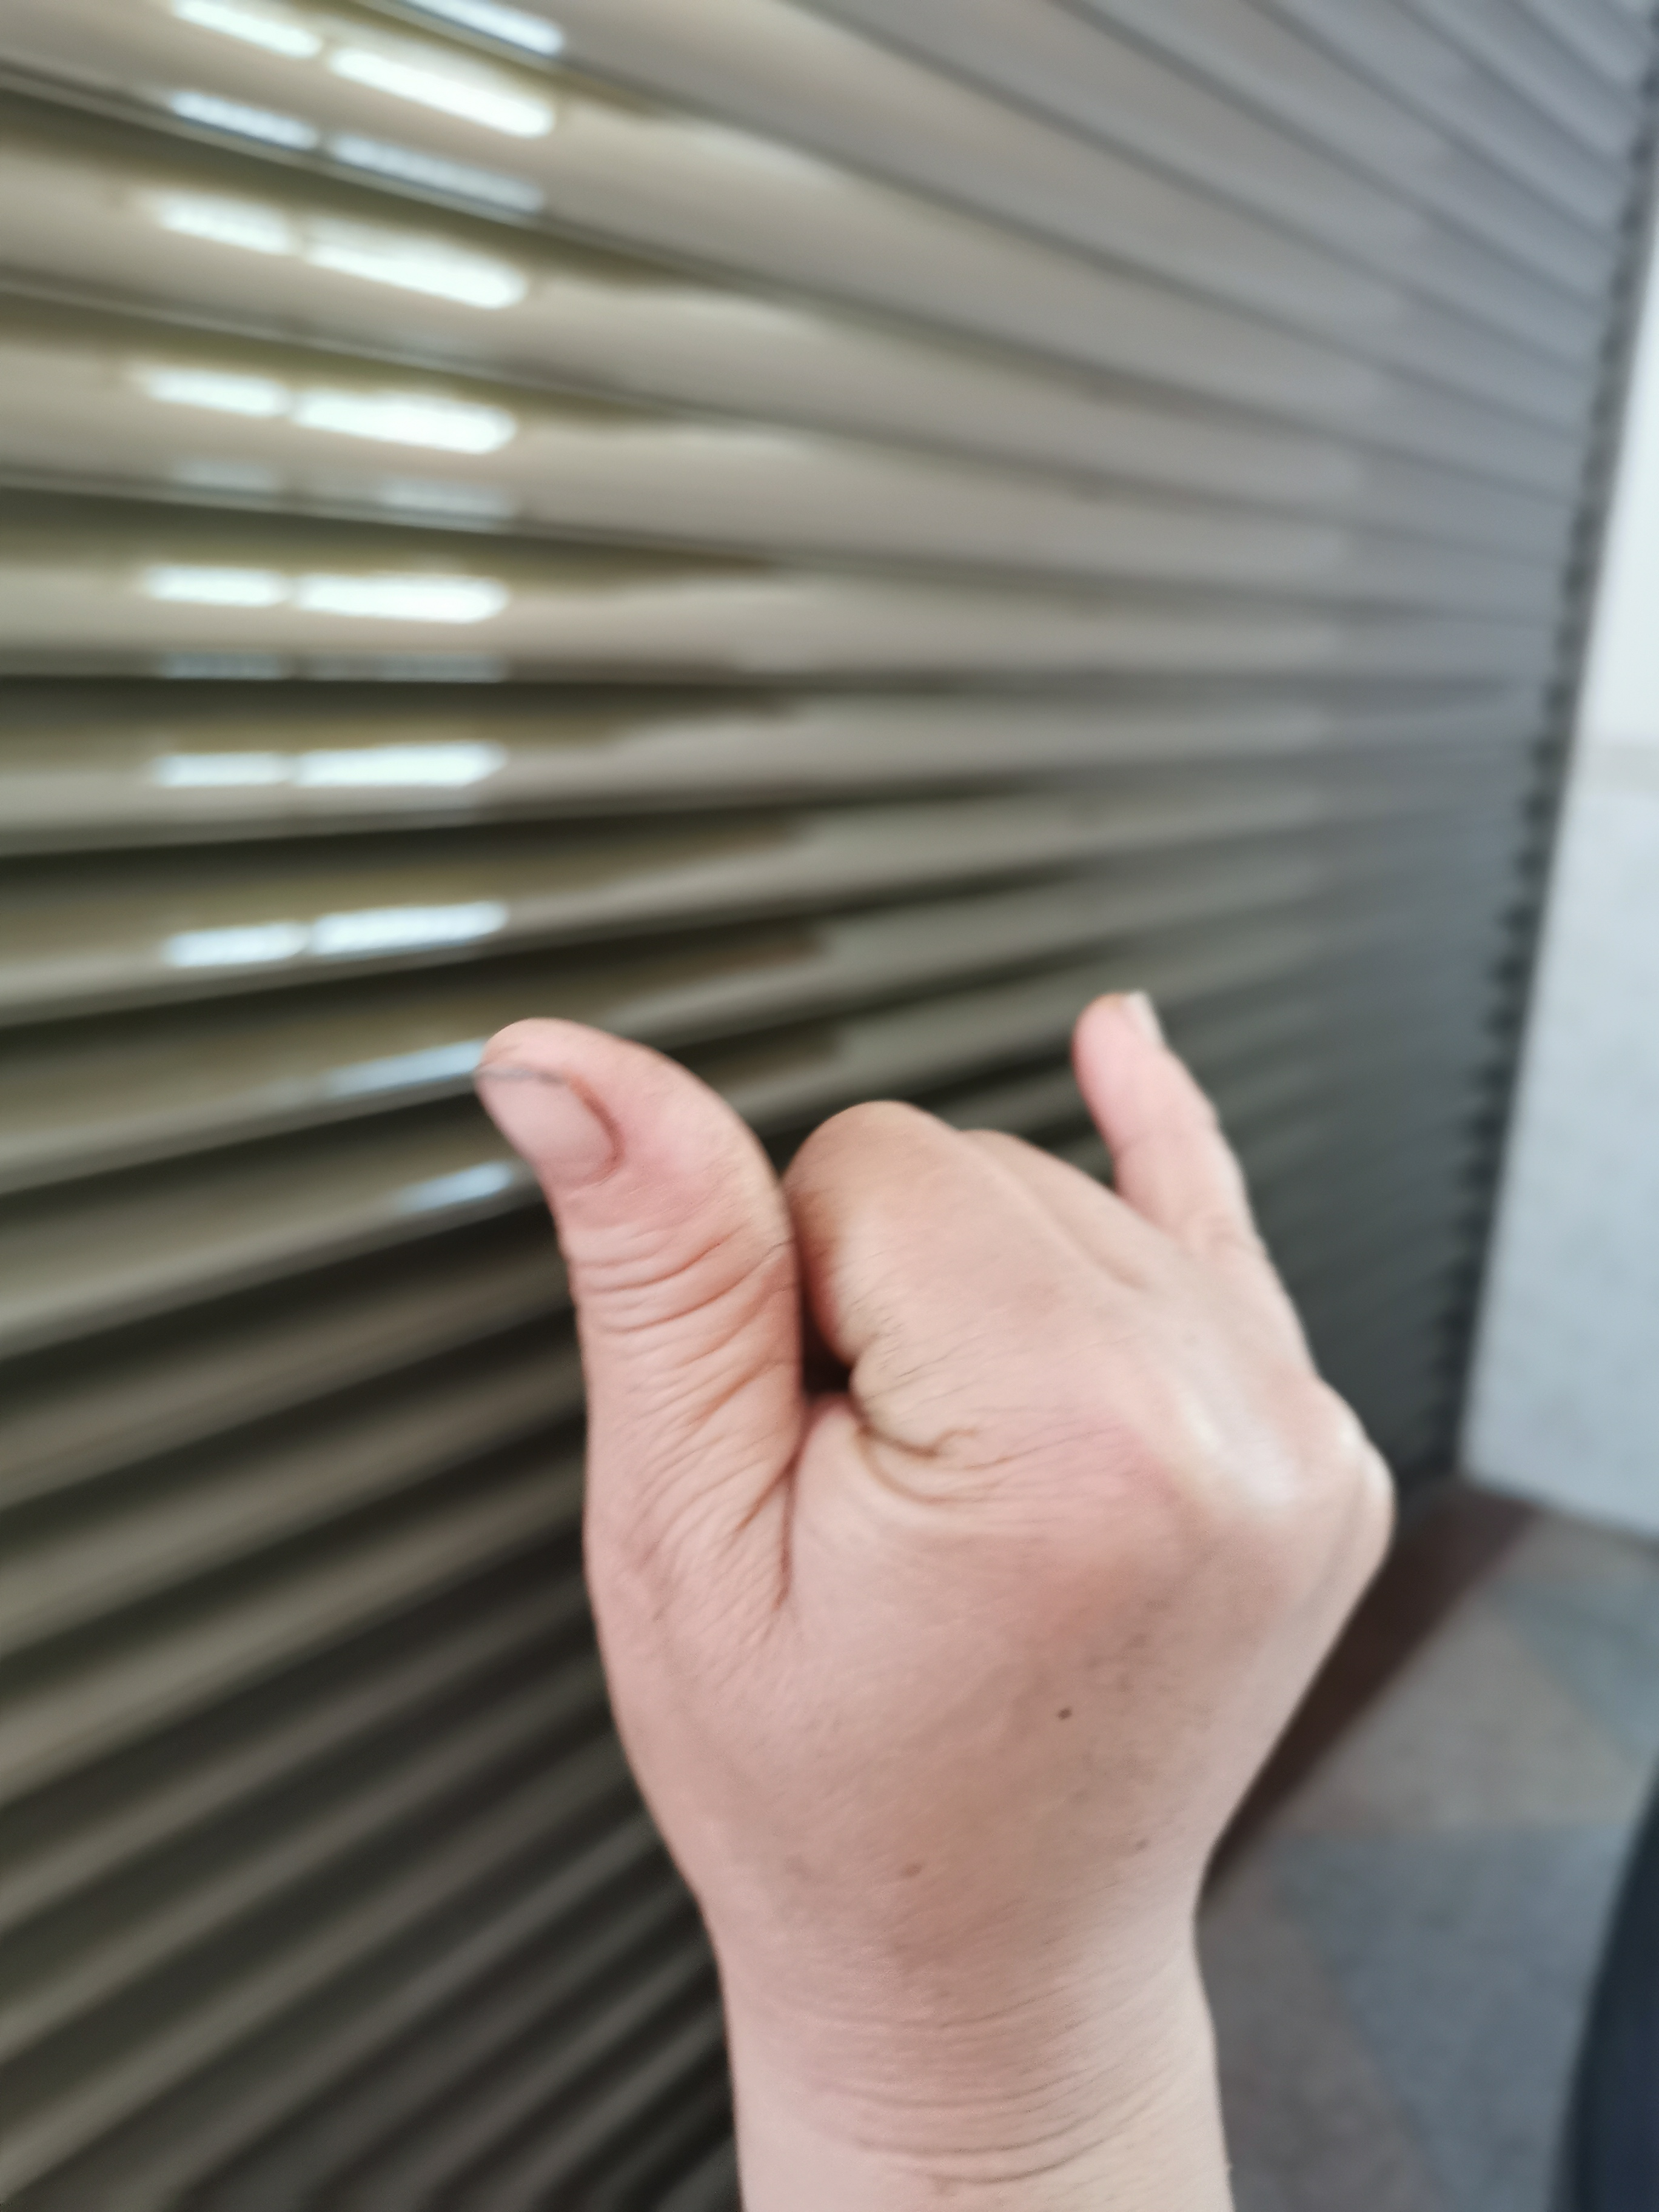clockwise: (465, 968, 1422, 2013)
